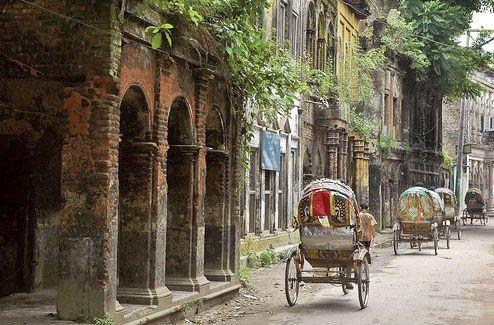Rickshaw: (285, 179, 370, 307), (393, 187, 441, 254), (435, 188, 461, 239), (428, 190, 450, 248), (461, 188, 487, 224)
